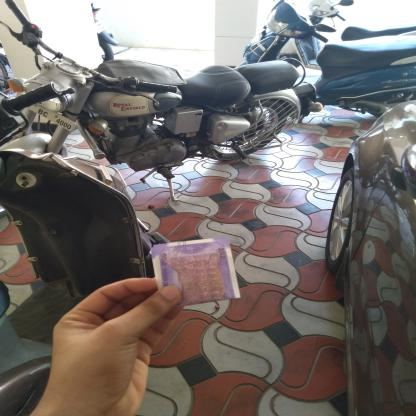New100Back: (155, 242, 237, 304)
